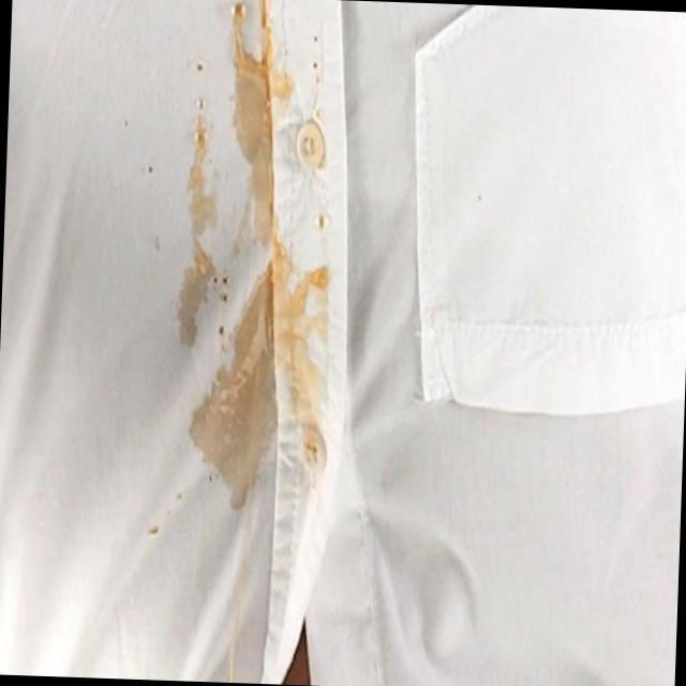coffee: (202, 283, 312, 502), (239, 20, 288, 235), (182, 110, 223, 237), (176, 247, 217, 347)
